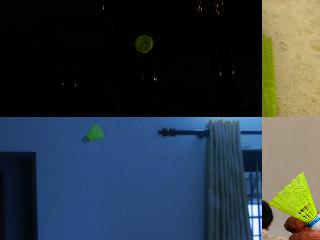shuttlecock: (268, 170, 319, 230), (262, 33, 289, 116), (82, 124, 104, 142), (135, 34, 153, 52)
